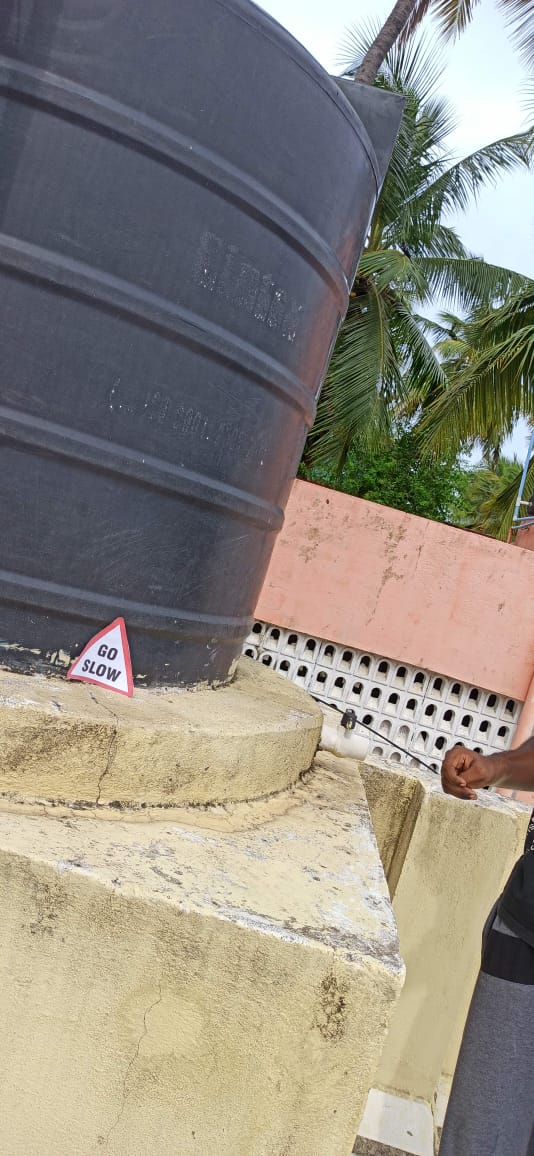GO SLOW: (56, 612, 145, 697)
